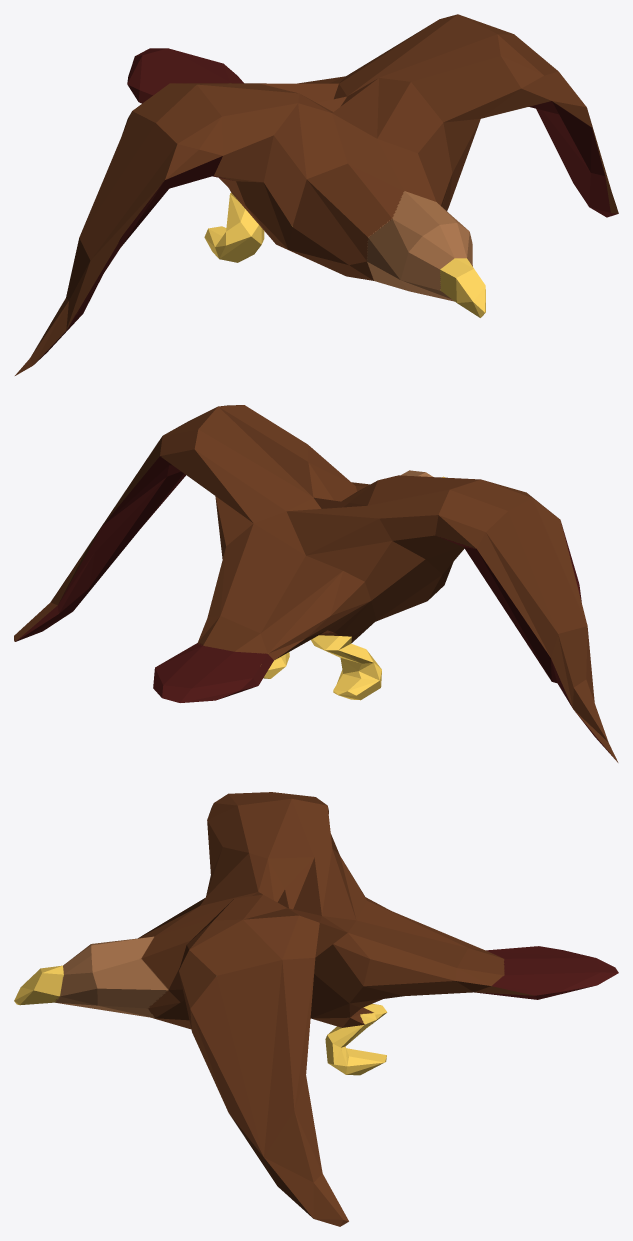
Rendered from aguili_000017.obj.
3 renders of one model, top to bottom at view 1: azimuth 30°, elevation 25°; view 2: azimuth 150°, elevation 25°; view 3: azimuth 270°, elevation 25°, orthographic. The views are drawn at different scales.
Visible parts, largest first — view 1: aguila.001_Cube.001; view 2: aguila.001_Cube.001; view 3: aguila.001_Cube.001.
Part boxes in pixels (<box>): aguila.001_Cube.001: <box>15,14,618,375</box>; aguila.001_Cube.001: <box>14,405,618,762</box>; aguila.001_Cube.001: <box>14,792,618,1226</box>.
Bounding box in the file's own units: 61.89 × 23.97 × 56.5.
1 material, 1 textured.
